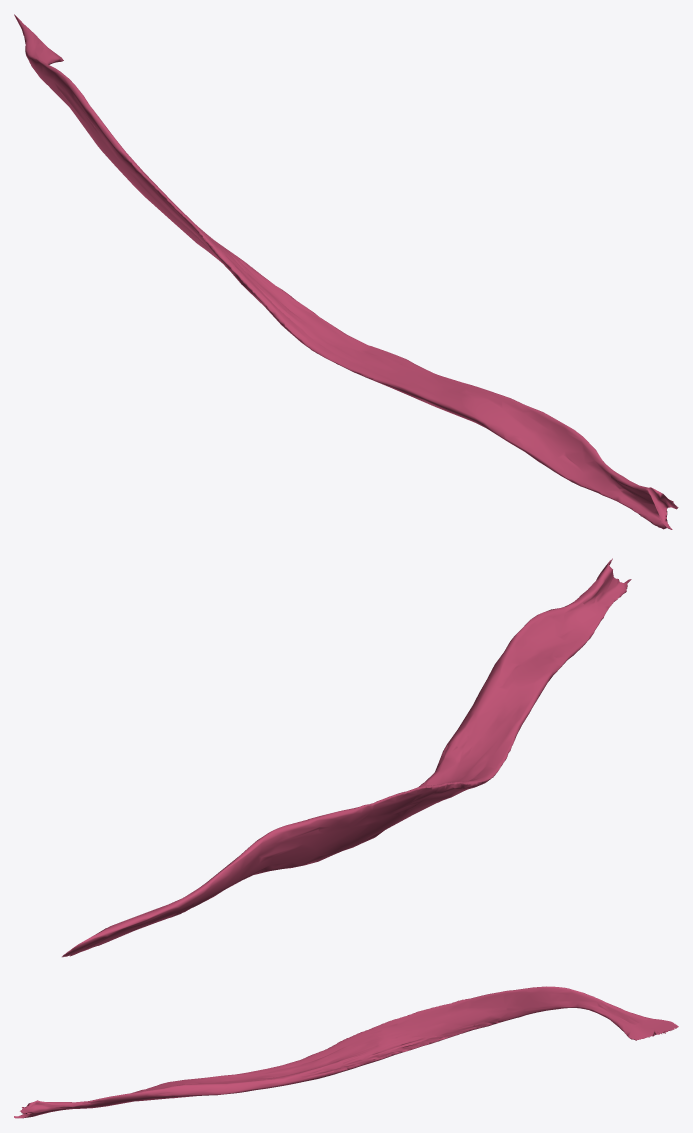
3 views of the same model, one above another, from view 1: azimuth 30°, elevation 25°; view 2: azimuth 150°, elevation 25°; view 3: azimuth 270°, elevation 25° (orthographic). The views are drawn at different scales.
Visible parts, largest first — view 1: 左侧缝匠肌; view 2: 左侧缝匠肌; view 3: 左侧缝匠肌.
Boxes of the visible parts, x1,y1,x2,y2 form: 左侧缝匠肌: (14, 14, 678, 529); 左侧缝匠肌: (62, 558, 631, 957); 左侧缝匠肌: (14, 986, 678, 1118).
Size of the model in its own units: 0.1521 by 0.1328 by 0.8829.
